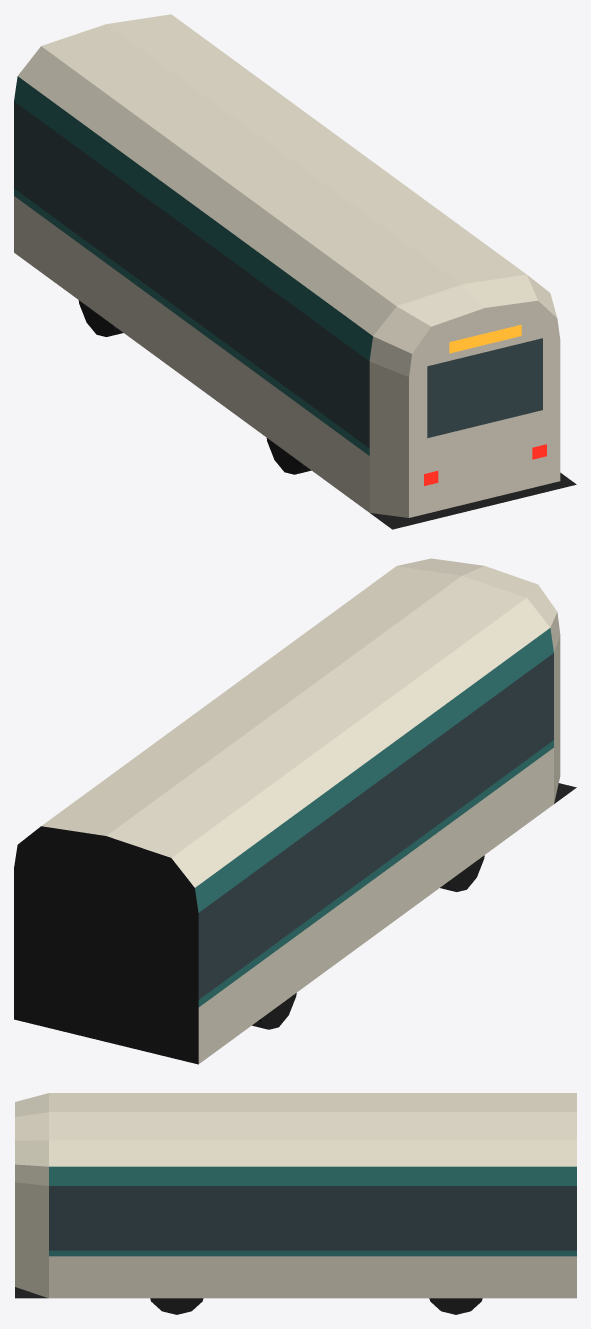
The model's file is carrow_tram_rear_lod.glb.
3 views of the same model, one above another, from view 1: azimuth 30°, elevation 25°; view 2: azimuth 150°, elevation 25°; view 3: azimuth 270°, elevation 25° (orthographic). The views are drawn at different scales.
Visible parts, largest first — view 1: lod; view 2: lod; view 3: lod.
Boxes of the visible parts, <box> form: lod: <box>14,14,576,529</box>; lod: <box>14,558,576,1064</box>; lod: <box>15,1093,576,1314</box>.
Bounding box in the file's own units: 2.55 × 3.02 × 9.07.
